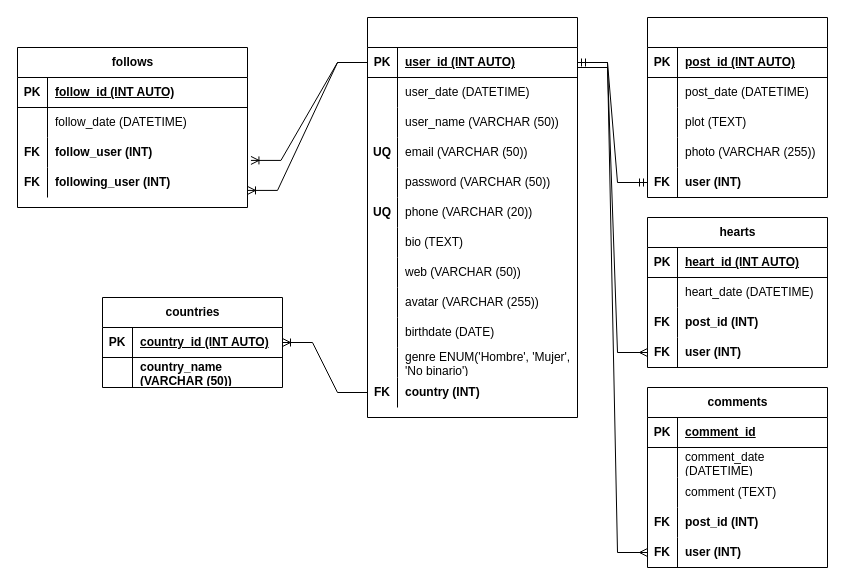
The diagram is 845 pixels wide and 585 high, and some of its shapes have lost their labels. Here are the shapes that lost their labels. From the top down, the box of each, then its label:
(646, 16, 828, 198): posts
(366, 16, 578, 418): users
